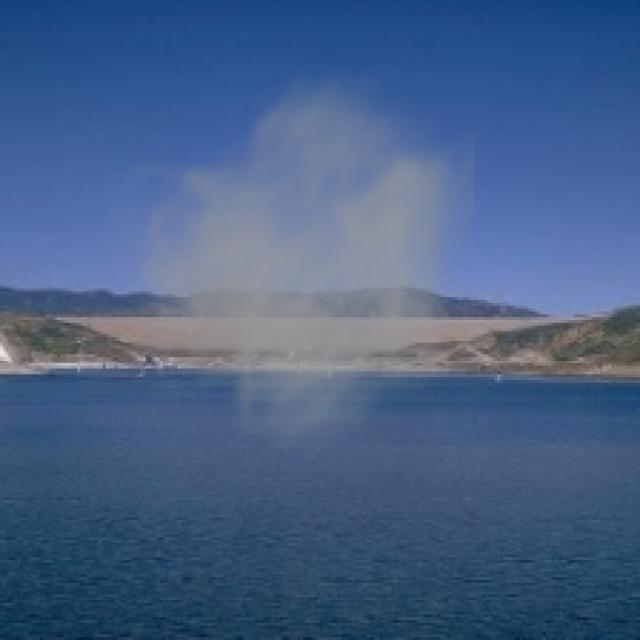smoke: (97, 57, 474, 466)
